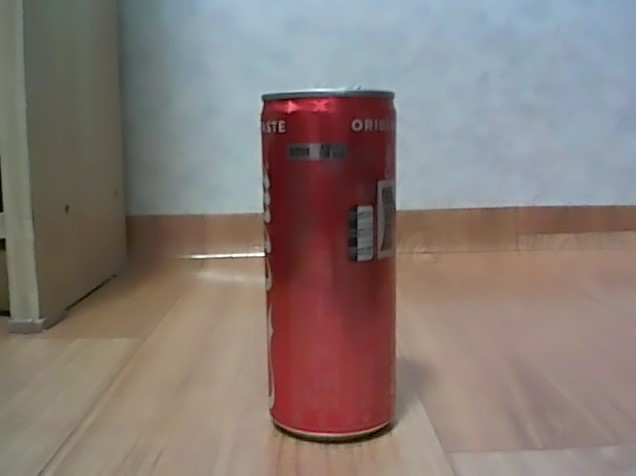Can: (251, 82, 406, 450)
